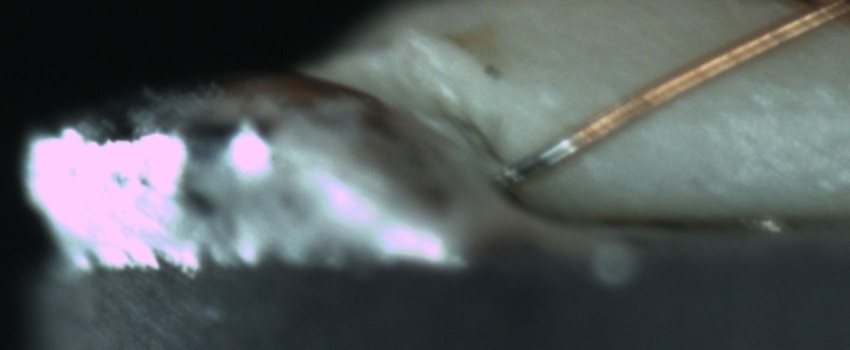CL: (770, 1, 850, 33)
TS: (503, 130, 579, 186)
